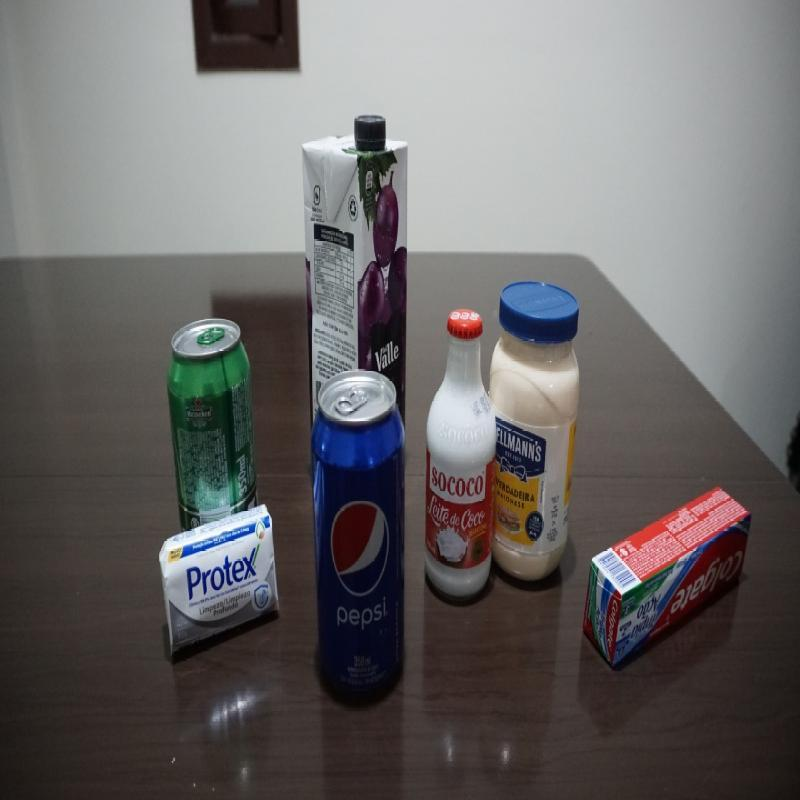Beer can: (163, 306, 259, 507)
Coconut Milk: (423, 306, 499, 610)
Mayonnaise: (497, 278, 579, 592)
Soap: (158, 504, 284, 660)
Soda can: (308, 368, 412, 700)
Toothpaste: (587, 484, 753, 665)
